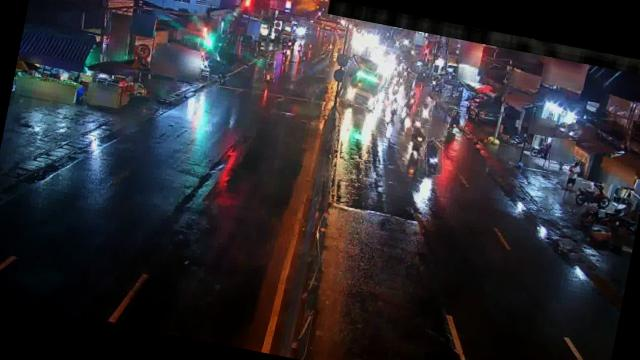Bike: (572, 180, 616, 212), (421, 138, 448, 177), (408, 123, 429, 153), (447, 110, 468, 134), (416, 98, 434, 124), (402, 90, 418, 114), (387, 97, 401, 121), (263, 60, 277, 82)
Bus: (338, 53, 388, 110)
